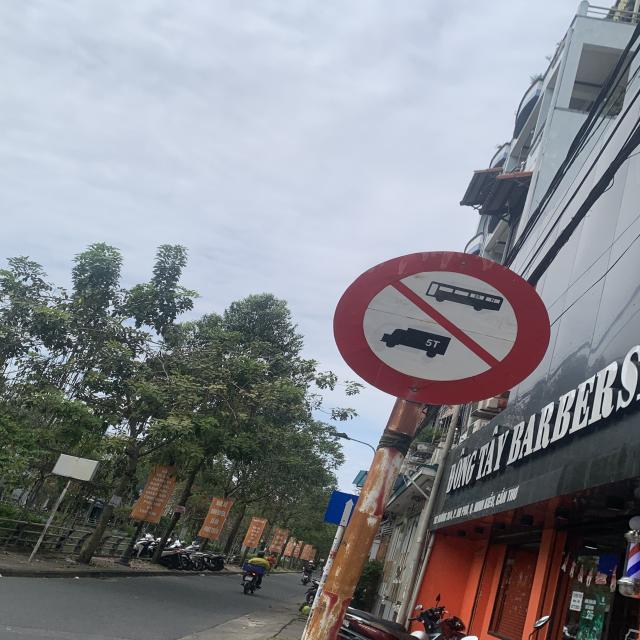Cam_XeTai_XeKhach: (331, 248, 554, 407)
